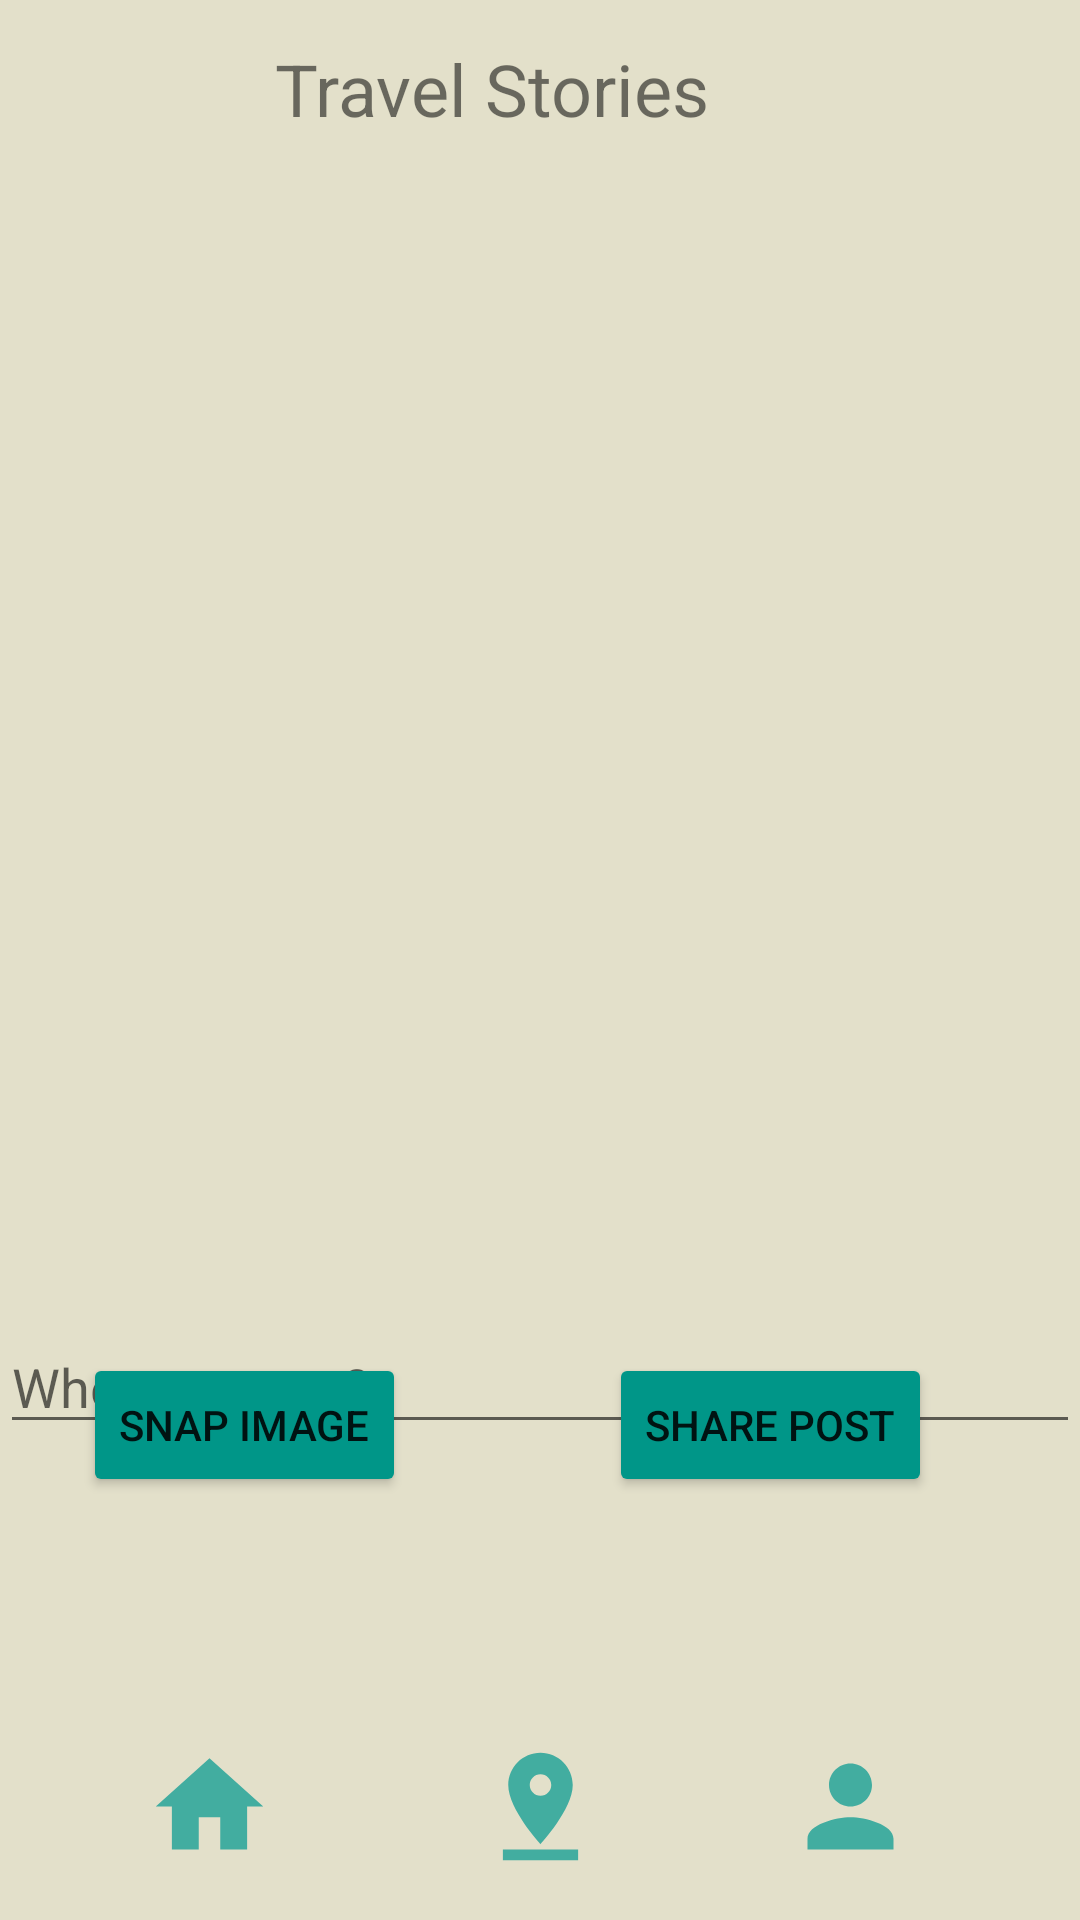

Where icons sit on this 1080 × 1920 app screen, as (x1, y1, x2, y2):
home: (156, 1758, 263, 1850)
pin: (503, 1752, 578, 1861)
profile: (807, 1763, 894, 1850)
